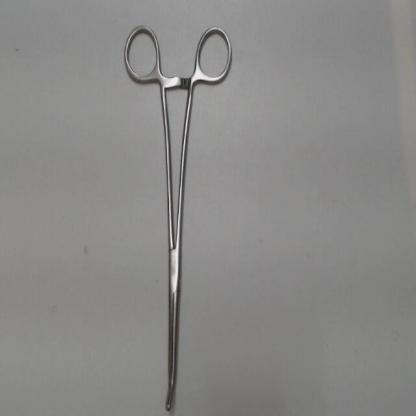Lahey Forceps: (116, 17, 237, 414)
